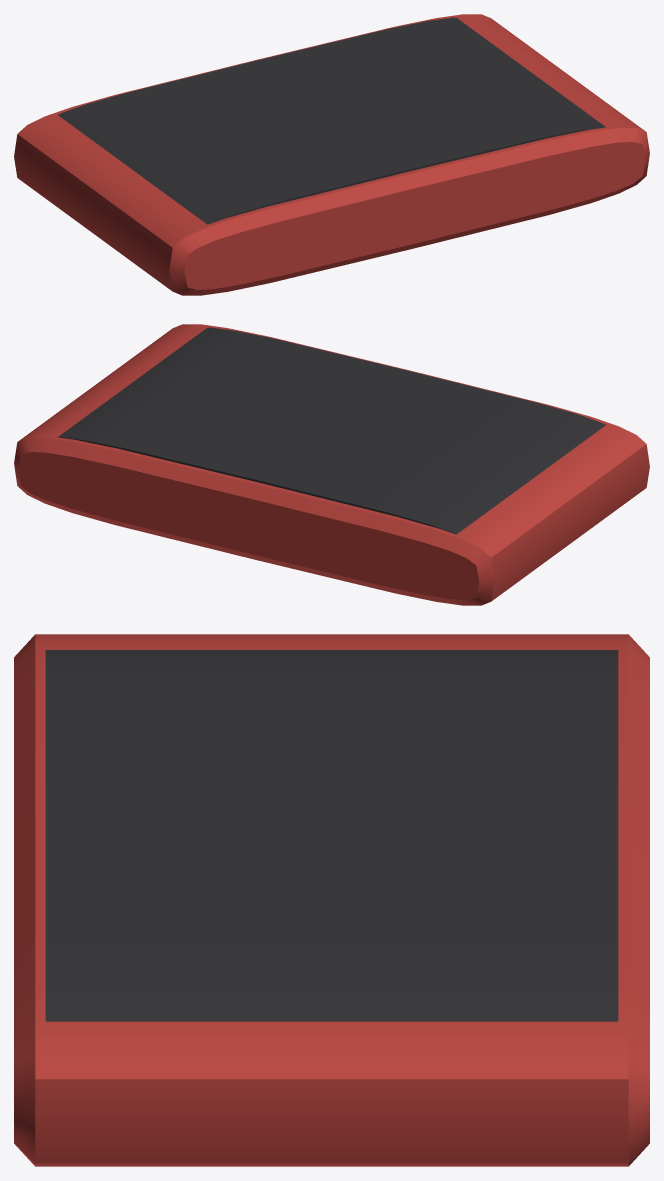
The model's file is tft.glb.
3 renders of one model, top to bottom at view 1: azimuth 30°, elevation 25°; view 2: azimuth 150°, elevation 25°; view 3: azimuth 270°, elevation 25°, orthographic. The views are drawn at different scales.
Visible parts, largest first — view 1: lod0; view 2: lod0; view 3: lod0.
Boxes of the visible parts, left/top/right/bottom form: lod0: left=14, top=14, right=649, bottom=295; lod0: left=14, top=324, right=649, bottom=605; lod0: left=14, top=634, right=649, bottom=1166.
Size of what is drawn, in the model's own units: 0.2 by 0.0428 by 0.12.
